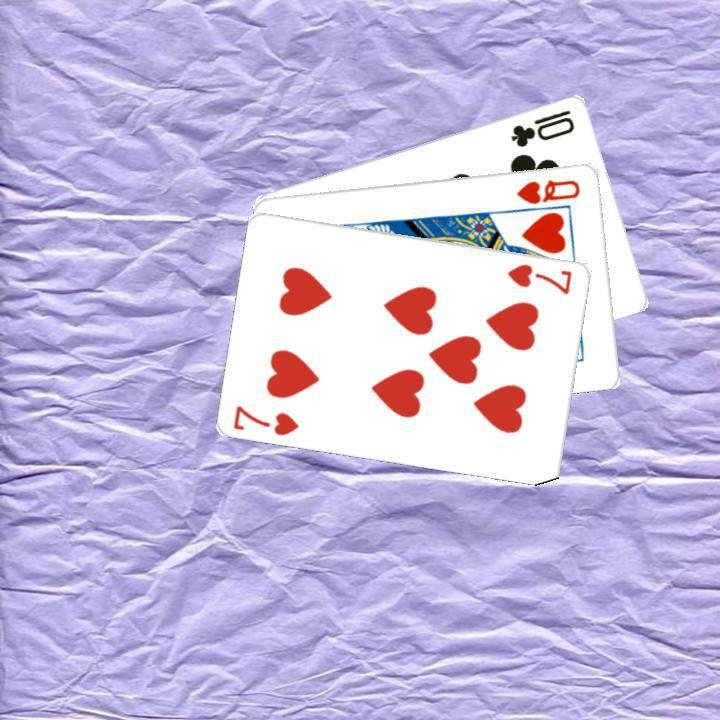10: (506, 104, 577, 149)
7: (229, 400, 301, 438), (503, 259, 575, 296)
Q: (513, 174, 583, 206)
